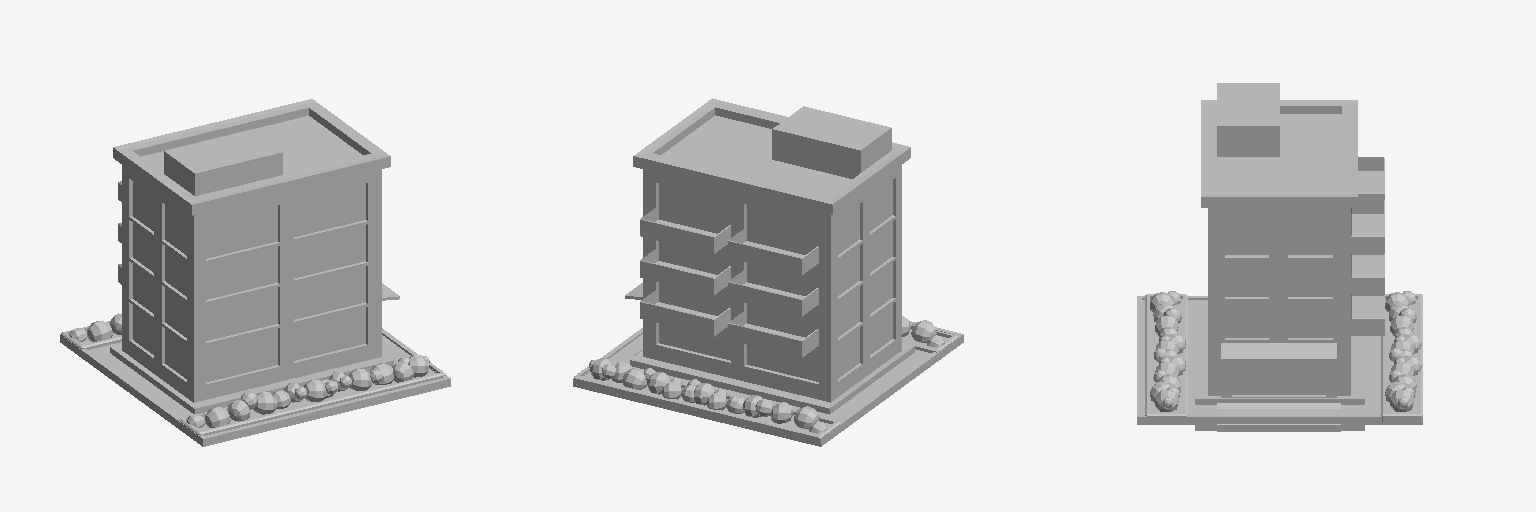
Rendered from building3.obj.
3 views of the same model, side by side, from view 1: azimuth 30°, elevation 25°; view 2: azimuth 150°, elevation 25°; view 3: azimuth 270°, elevation 25° (orthographic).
Parts seen in each view (by area): view 1: House, Floor_4, Bushes_3, Bed, Bushes_3_2; view 2: House, Bushes_3_2, Floor_4, Bed_2, Bushes_3; view 3: House, Floor_4, Bushes_3_2, Bushes_3, Bed, Bed_2.
Boxes of the visible parts, box(x1,y1,x2,y2) form: House: box(110, 99, 399, 413); Floor_4: box(60, 328, 450, 446); Bushes_3: box(186, 355, 429, 427); Bed: box(179, 362, 445, 435); Bushes_3_2: box(69, 313, 121, 341); House: box(625, 98, 914, 414); Bushes_3_2: box(589, 358, 826, 433); Floor_4: box(573, 321, 963, 446); Bed_2: box(574, 366, 840, 443); Bushes_3: box(902, 316, 944, 347); House: box(1195, 83, 1384, 431); Floor_4: box(1137, 296, 1422, 424); Bushes_3_2: box(1385, 291, 1421, 411); Bushes_3: box(1150, 291, 1186, 411); Bed: box(1145, 294, 1187, 421); Bed_2: box(1381, 294, 1422, 421).
Size of the model in its own units: 1.68 by 1.65 by 1.67.